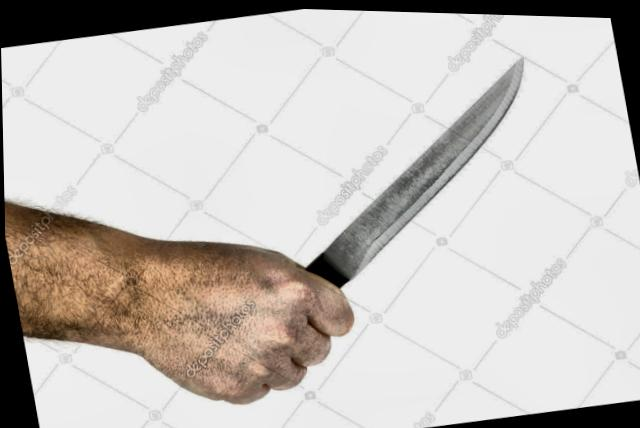knife: (182, 38, 587, 409)
